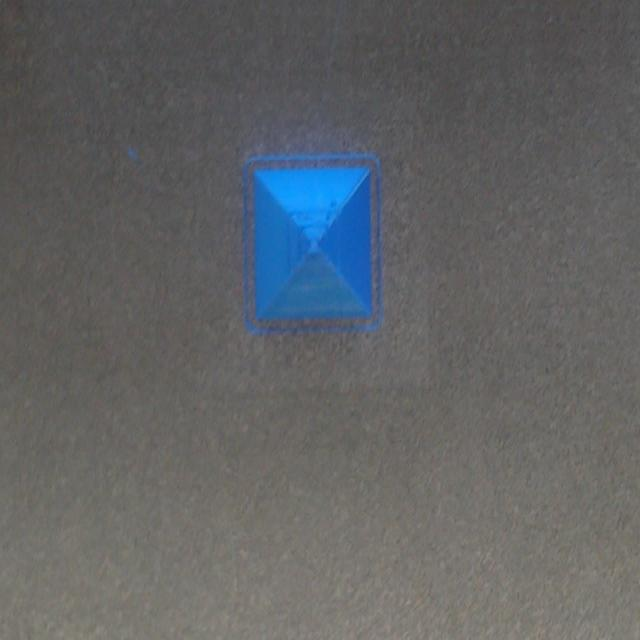mistake: (290, 207, 337, 252)
